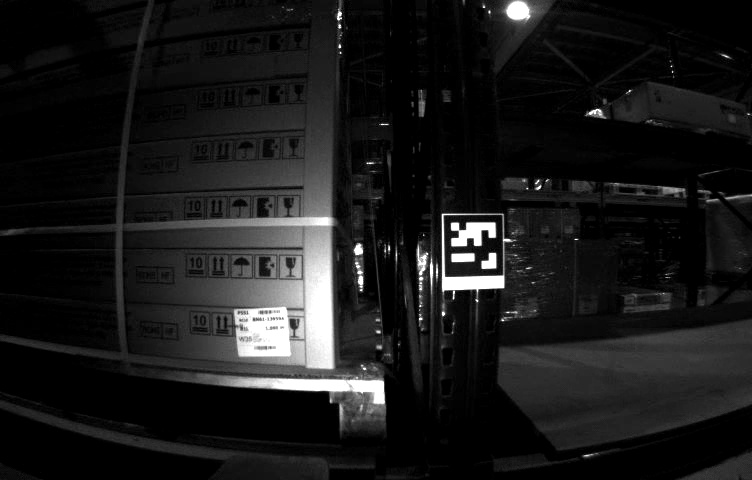True Barcode: (233, 306, 293, 358)
